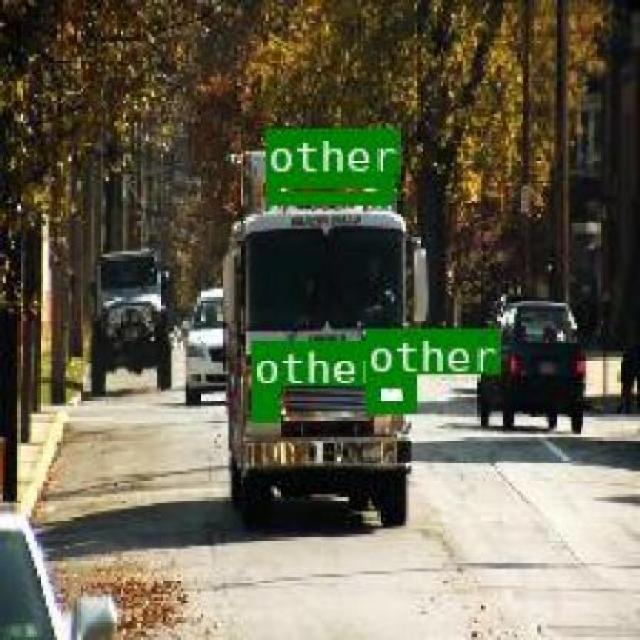Smoke: (263, 172, 391, 203), (364, 372, 412, 412), (250, 384, 276, 418)
